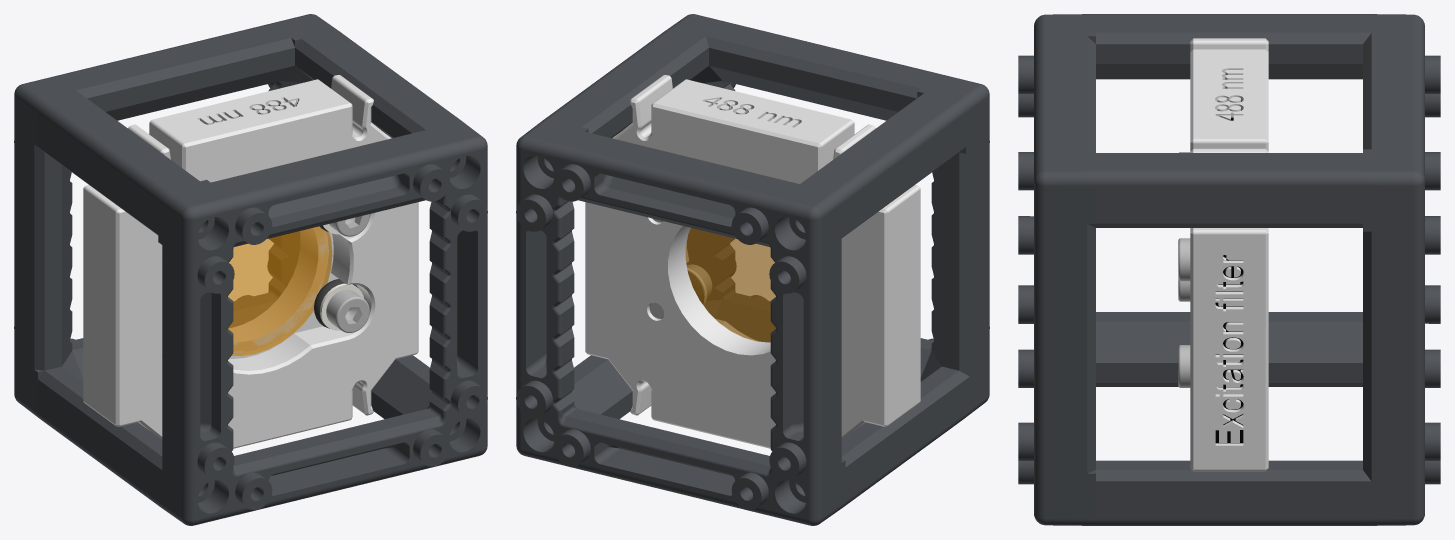
File: ASS_-_2047_-_CUBEXCFILWLS532__-_V04.glb
3 renders of one model, left to right at view 1: azimuth 30°, elevation 25°; view 2: azimuth 150°, elevation 25°; view 3: azimuth 270°, elevation 25°, orthographic. The views are drawn at different scales.
Parts seen in each view (by area): view 1: PRT - 1003 - CUBHLF111 - V04:2, PRT - 2044 - INSEXCFILD25.4WLS532 - V04:1, PRT - 1003 - CUBHLF111 - V04:1, BUY - Excitation filter - D25.4x1 WLS532:1, ISO 4762 - Hex socket head cap screw - M3 x 8 - 8.8 - A2K:1 (×2); view 2: PRT - 1003 - CUBHLF111 - V04:1, PRT - 2044 - INSEXCFILD25.4WLS532 - V04:1, PRT - 1003 - CUBHLF111 - V04:2, BUY - Excitation filter - D25.4x1 WLS532:1; view 3: PRT - 1003 - CUBHLF111 - V04:2, PRT - 1003 - CUBHLF111 - V04:1, PRT - 2044 - INSEXCFILD25.4WLS532 - V04:1, ISO 4762 - Hex socket head cap screw - M3 x 8 - 8.8 - A2K:1 (×2).
Part boxes in pixels (x1,y1,x2,y2): PRT - 1003 - CUBHLF111 - V04:2: (38, 31, 487, 525); PRT - 2044 - INSEXCFILD25.4WLS532 - V04:1: (83, 75, 418, 448); PRT - 1003 - CUBHLF111 - V04:1: (14, 14, 455, 429); BUY - Excitation filter - D25.4x1 WLS532:1: (228, 226, 332, 356); ISO 4762 - Hex socket head cap screw - M3 x 8 - 8.8 - A2K:1 (×2): (326, 214, 369, 332); PRT - 1003 - CUBHLF111 - V04:1: (516, 93, 965, 525); PRT - 2044 - INSEXCFILD25.4WLS532 - V04:1: (585, 75, 920, 448); PRT - 1003 - CUBHLF111 - V04:2: (544, 14, 989, 506); BUY - Excitation filter - D25.4x1 WLS532:1: (685, 228, 775, 342); PRT - 1003 - CUBHLF111 - V04:2: (1018, 14, 1362, 525); PRT - 1003 - CUBHLF111 - V04:1: (1096, 14, 1440, 525); PRT - 2044 - INSEXCFILD25.4WLS532 - V04:1: (1190, 38, 1268, 471); ISO 4762 - Hex socket head cap screw - M3 x 8 - 8.8 - A2K:1 (×2): (1178, 238, 1190, 387).
Bounding box in the file's own units: 49.8 × 49.8 × 53.8.
